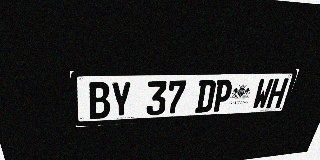3: (146, 81, 167, 116)
7: (165, 80, 187, 115)
B: (87, 82, 110, 119)
D: (195, 80, 217, 113)
H: (266, 78, 289, 108)
P: (211, 79, 234, 112)
W: (251, 79, 274, 109)
Y: (110, 81, 131, 118)
